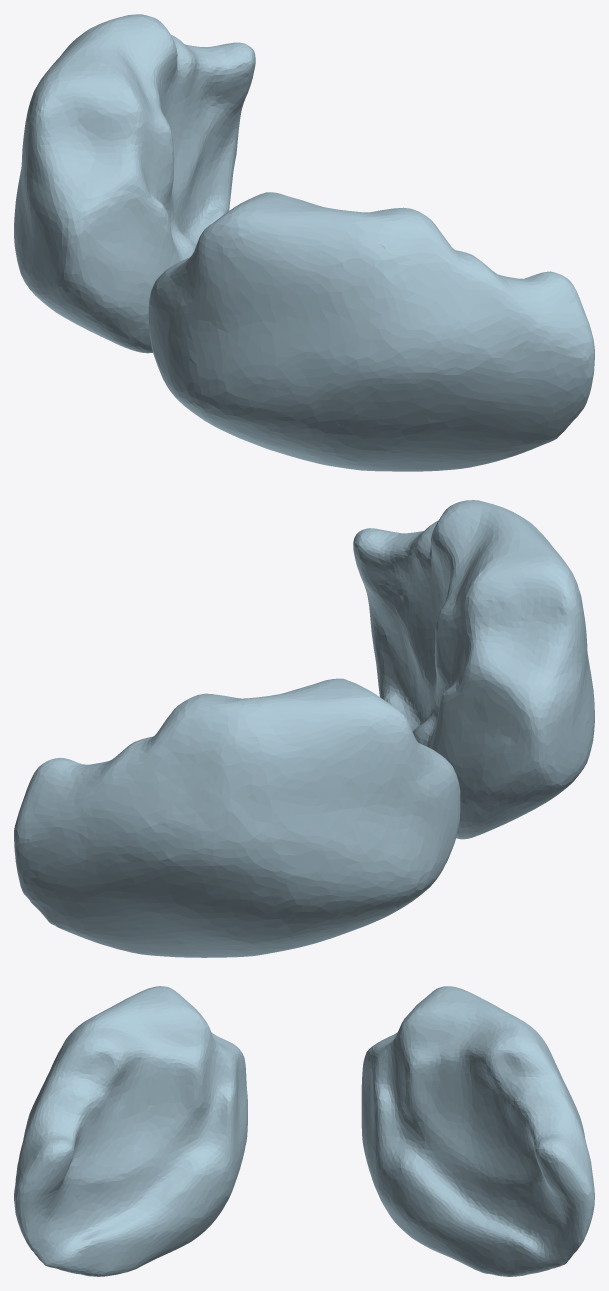
3 renders of one model, top to bottom at view 1: azimuth 30°, elevation 25°; view 2: azimuth 150°, elevation 25°; view 3: azimuth 270°, elevation 25°, orthographic. The views are drawn at different scales.
Visible parts, largest first — view 1: 672.obj; view 2: 672.obj; view 3: 672.obj.
Part boxes in pixels (x1,y1,x2,y2): 672.obj: (14,14,594,471); 672.obj: (14,500,594,957); 672.obj: (14,986,594,1276).
Size of the model in its own units: 3887 by 3366 by 7863.
